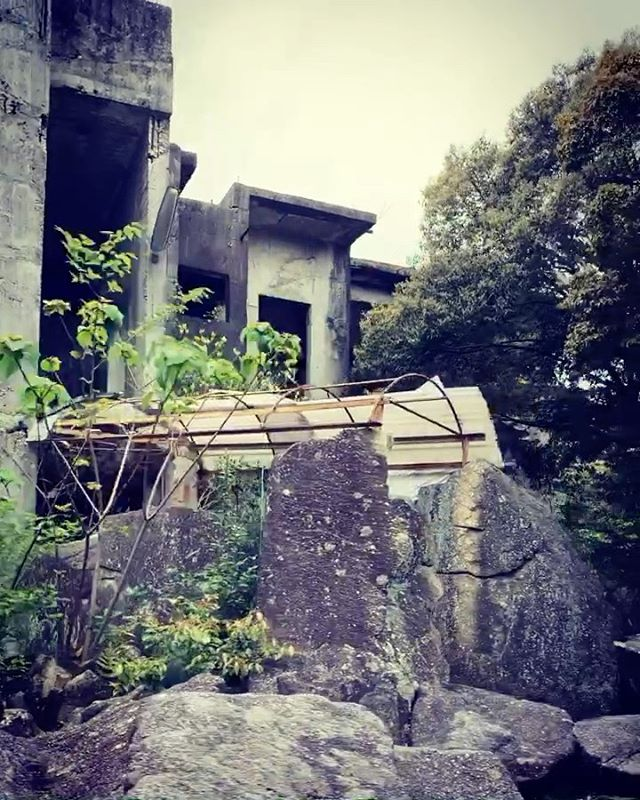building: (1, 1, 348, 381)
rocks: (47, 447, 606, 800)
tree: (364, 43, 640, 564)
vegetation: (1, 249, 270, 768)
